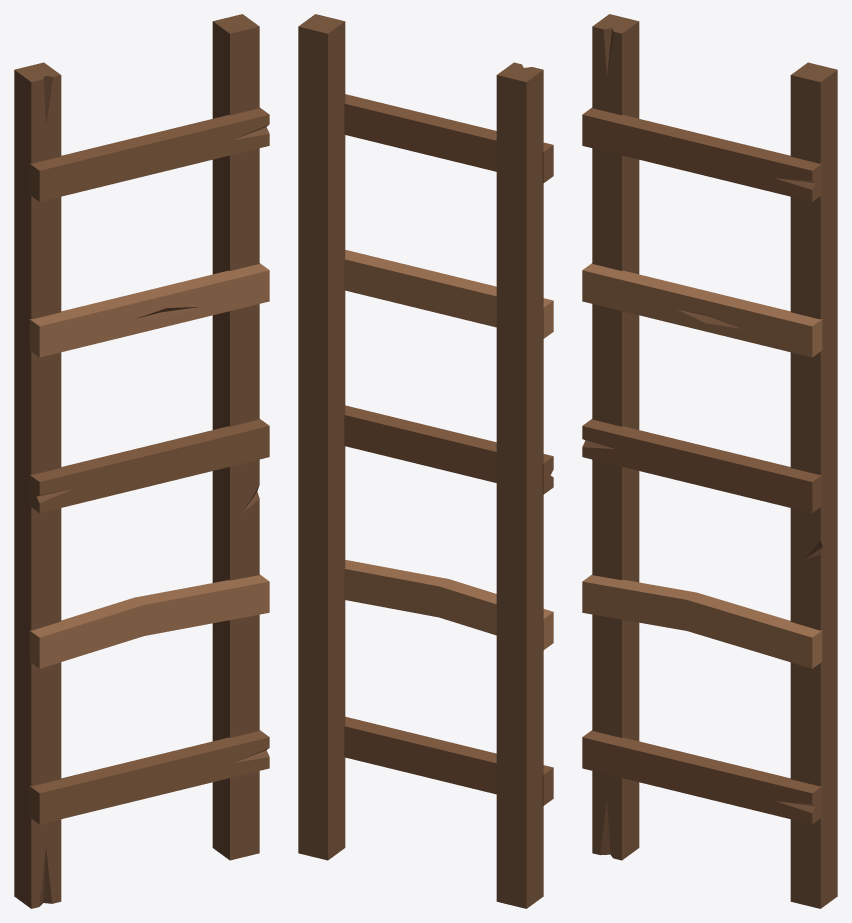
The model's file is WoodStairs_01.fbx.
3 renders of one model, left to right at view 1: azimuth 30°, elevation 25°; view 2: azimuth 150°, elevation 25°; view 3: azimuth 330°, elevation 25°, orthographic.
Visible parts, largest first — view 1: WoodStairs_01_LOD0; view 2: WoodStairs_01_LOD0; view 3: WoodStairs_01_LOD0.
Part boxes in pixels (x1,y1,x2,y2): WoodStairs_01_LOD0: (14, 14, 269, 908); WoodStairs_01_LOD0: (298, 14, 553, 908); WoodStairs_01_LOD0: (582, 14, 837, 908).
Size of what is drawn, in the model's own units: 0.5826 by 2 by 0.1152.
